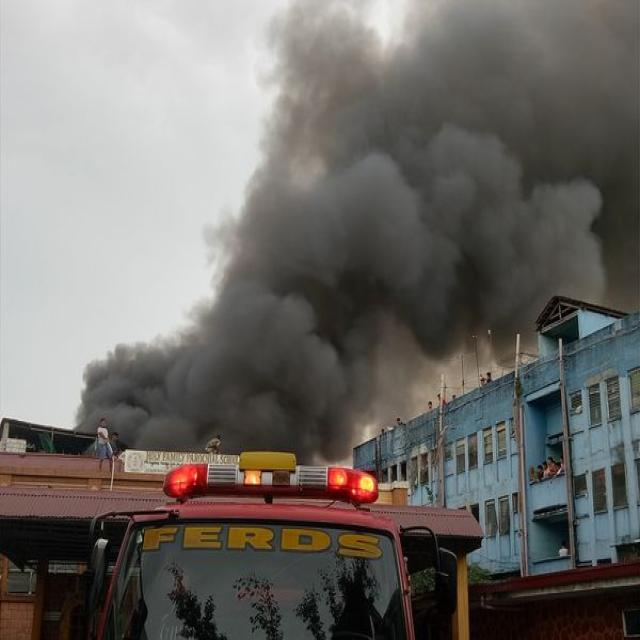Smoke: (273, 4, 640, 288), (212, 230, 430, 406), (108, 358, 350, 427)
